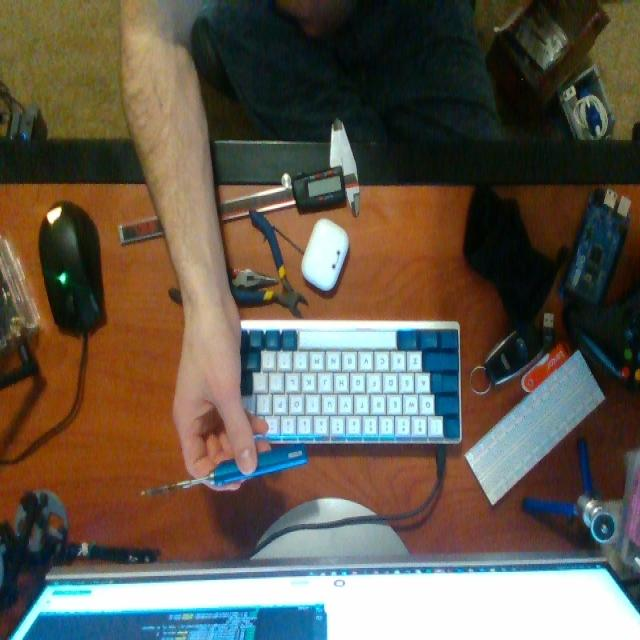keyboard-with-hands: (198, 323, 462, 441)
